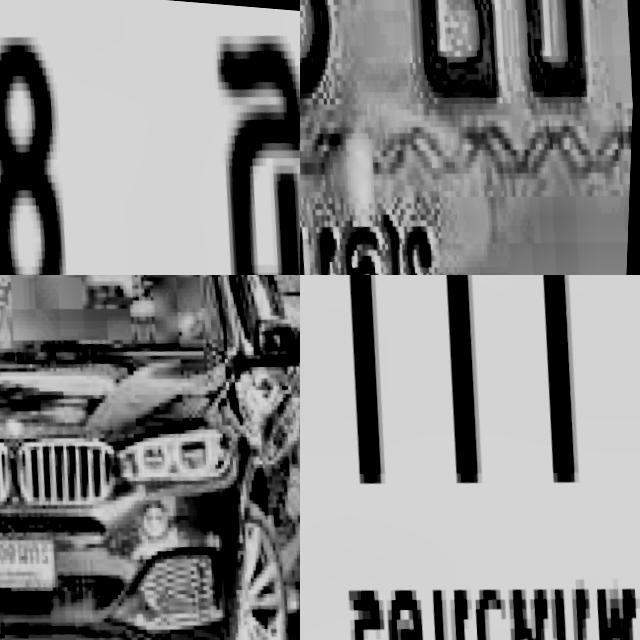license-plate: (300, 275, 640, 640), (300, 0, 640, 275), (0, 0, 300, 275), (0, 516, 66, 593)
